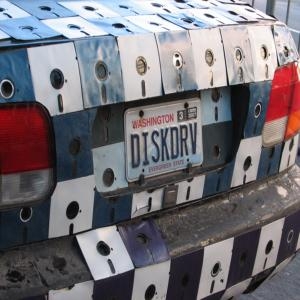Vehicle-registration-plate: (122, 97, 211, 189)
